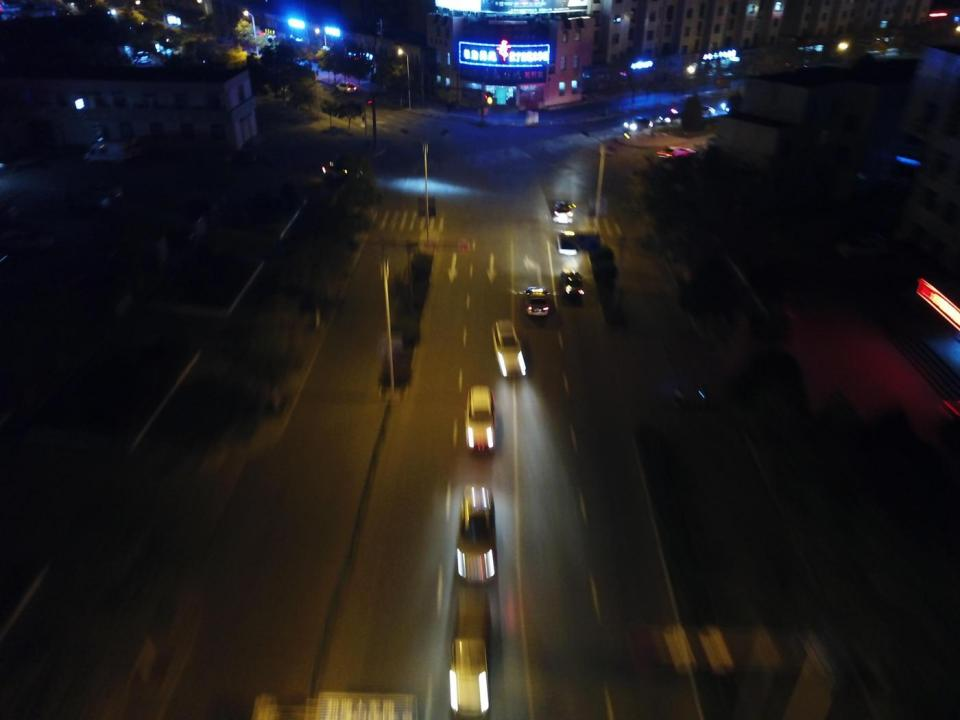bus: (450, 593, 490, 716)
car: (458, 483, 494, 583), (494, 318, 526, 382), (466, 387, 496, 450), (835, 231, 889, 260), (524, 284, 548, 316), (564, 270, 584, 301), (658, 146, 696, 161), (109, 139, 141, 156), (624, 116, 652, 133), (553, 200, 574, 222), (321, 162, 346, 178), (559, 230, 574, 256), (659, 108, 682, 123), (689, 103, 715, 116), (784, 60, 806, 70), (337, 82, 356, 92), (721, 101, 737, 111), (720, 68, 731, 75)
van: (83, 143, 132, 163)
